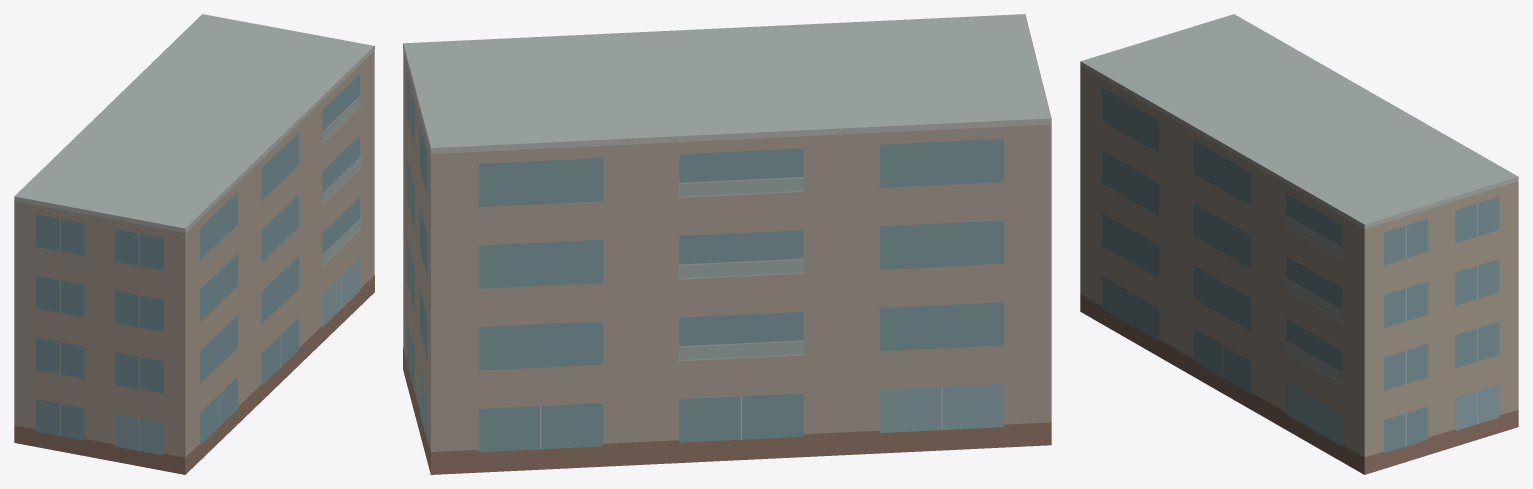
File: survey-upis-32933593.glb
3 views of the same model, side by side, from view 1: azimuth 30°, elevation 25°; view 2: azimuth 150°, elevation 25°; view 3: azimuth 270°, elevation 25° (orthographic). The views are drawn at different scales.
Parts seen in each view (by area): view 1: survey-upis-32933593.tmp; view 2: survey-upis-32933593.tmp; view 3: survey-upis-32933593.tmp.
Part boxes in pixels (x1,y1,x2,y2): survey-upis-32933593.tmp: [14, 14, 374, 474]; survey-upis-32933593.tmp: [403, 14, 1051, 474]; survey-upis-32933593.tmp: [1080, 14, 1518, 474].
Size of the model in its own units: 23.82 by 13.2 by 20.95.
